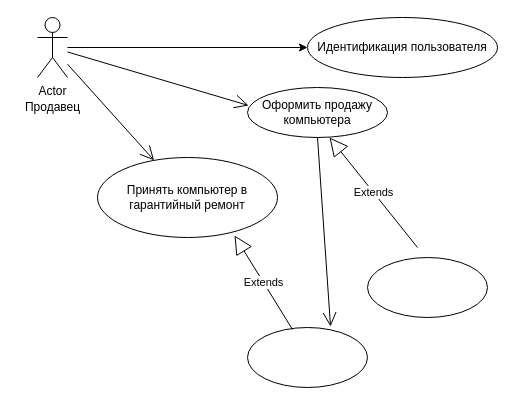
Some shapes in this 515 by 405 pixel diagram are drawn without their labels. Each missing label, with the centre of its shape:
"Актуализировать базу данных покупателей" belongs at (307,357).
"Отчет об остатках продуктов" belongs at (427,287).
